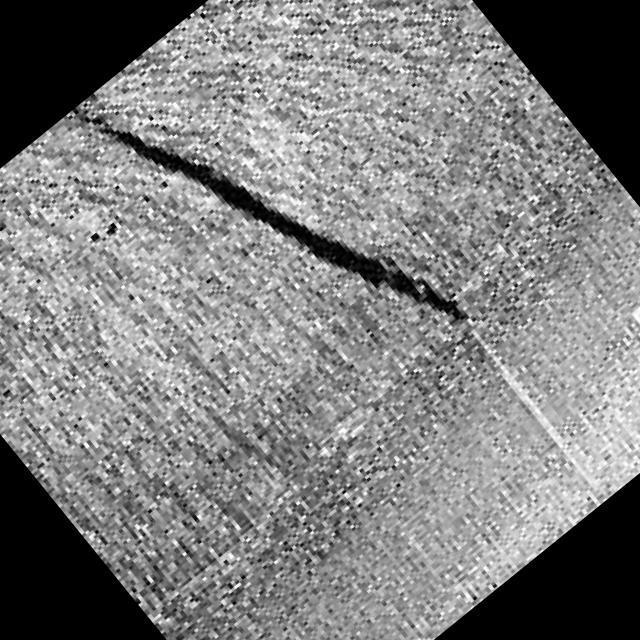defect: (65, 98, 475, 329)
